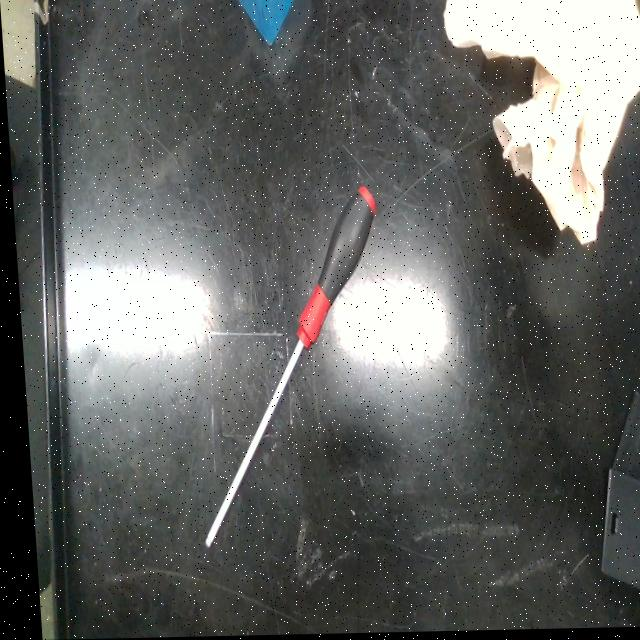Screwdriver: (197, 187, 373, 548)
